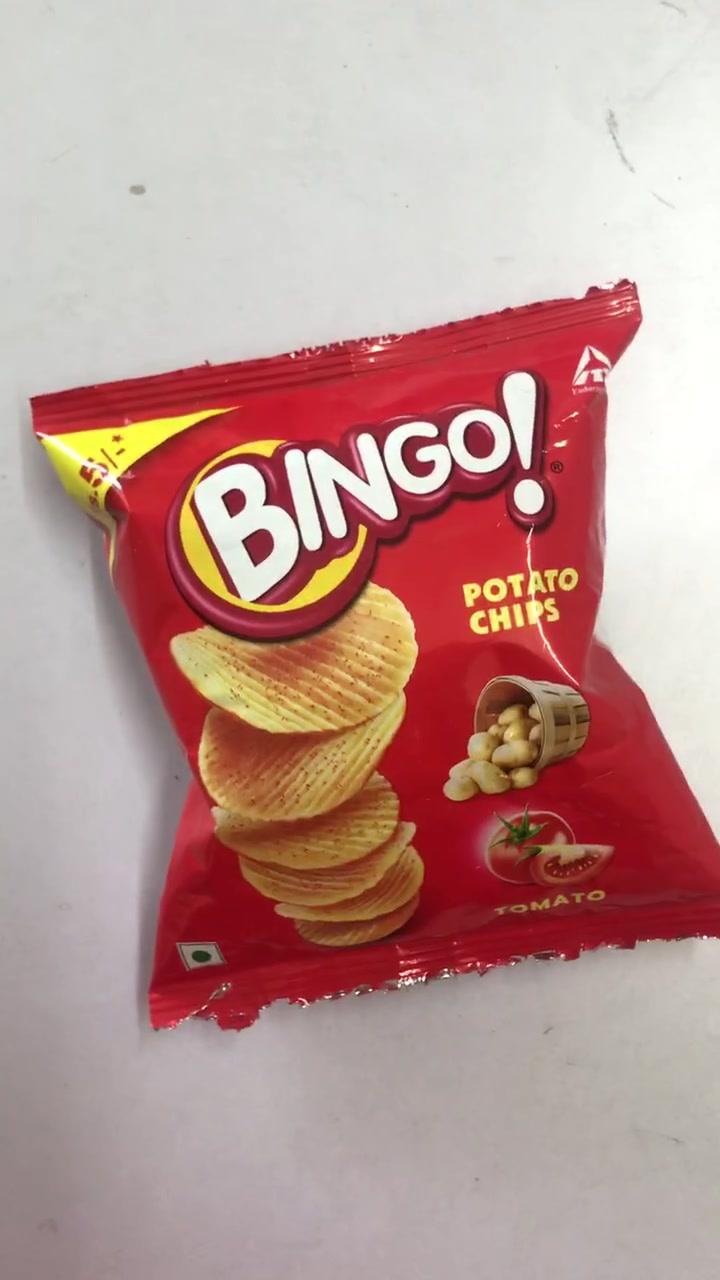Bingo: (34, 285, 720, 1036)
